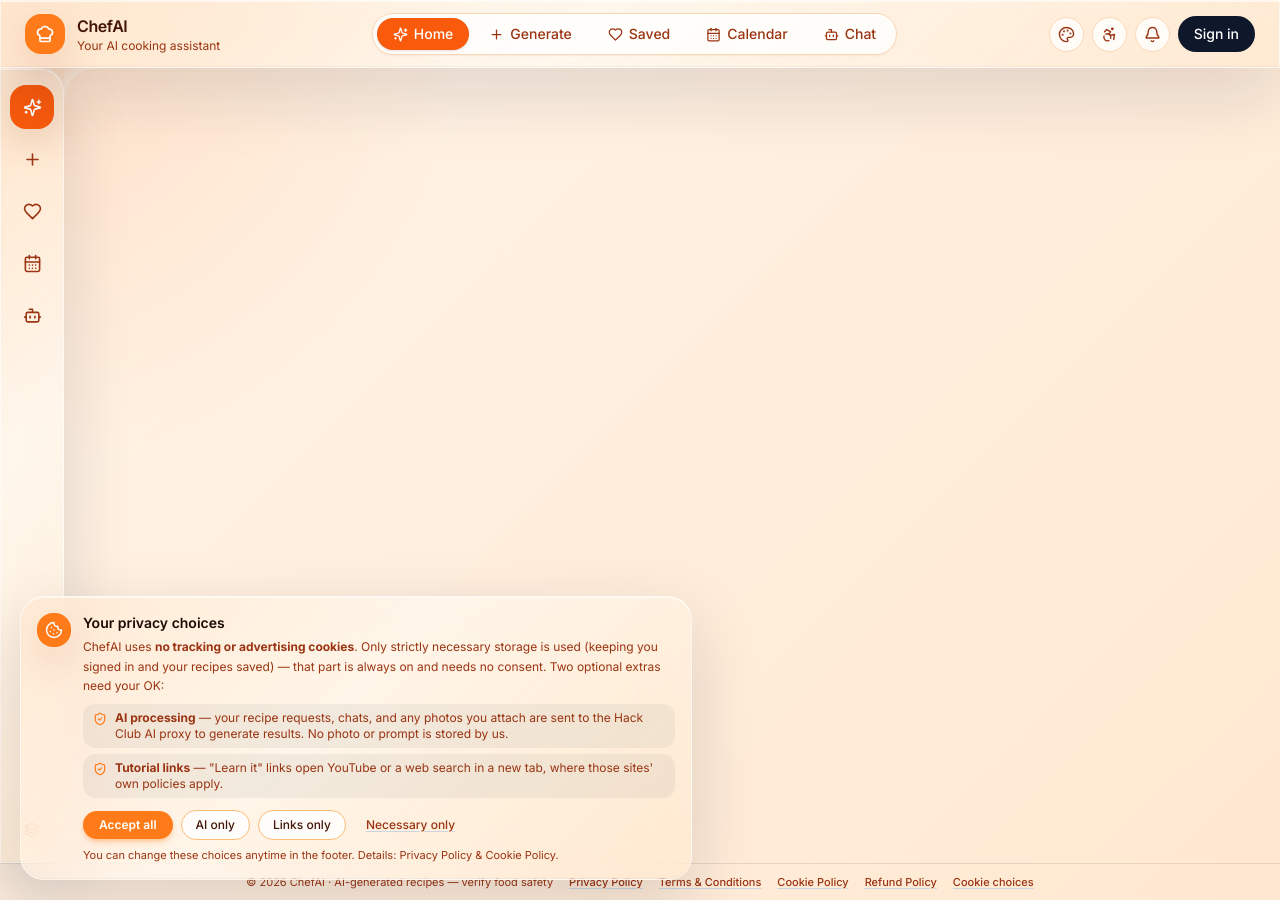
Test: ChefAI app shell › plans meals on the calendar from saved recipes
Click the tab "Calendar".
click(747, 34)  # box [690,18,804,50]
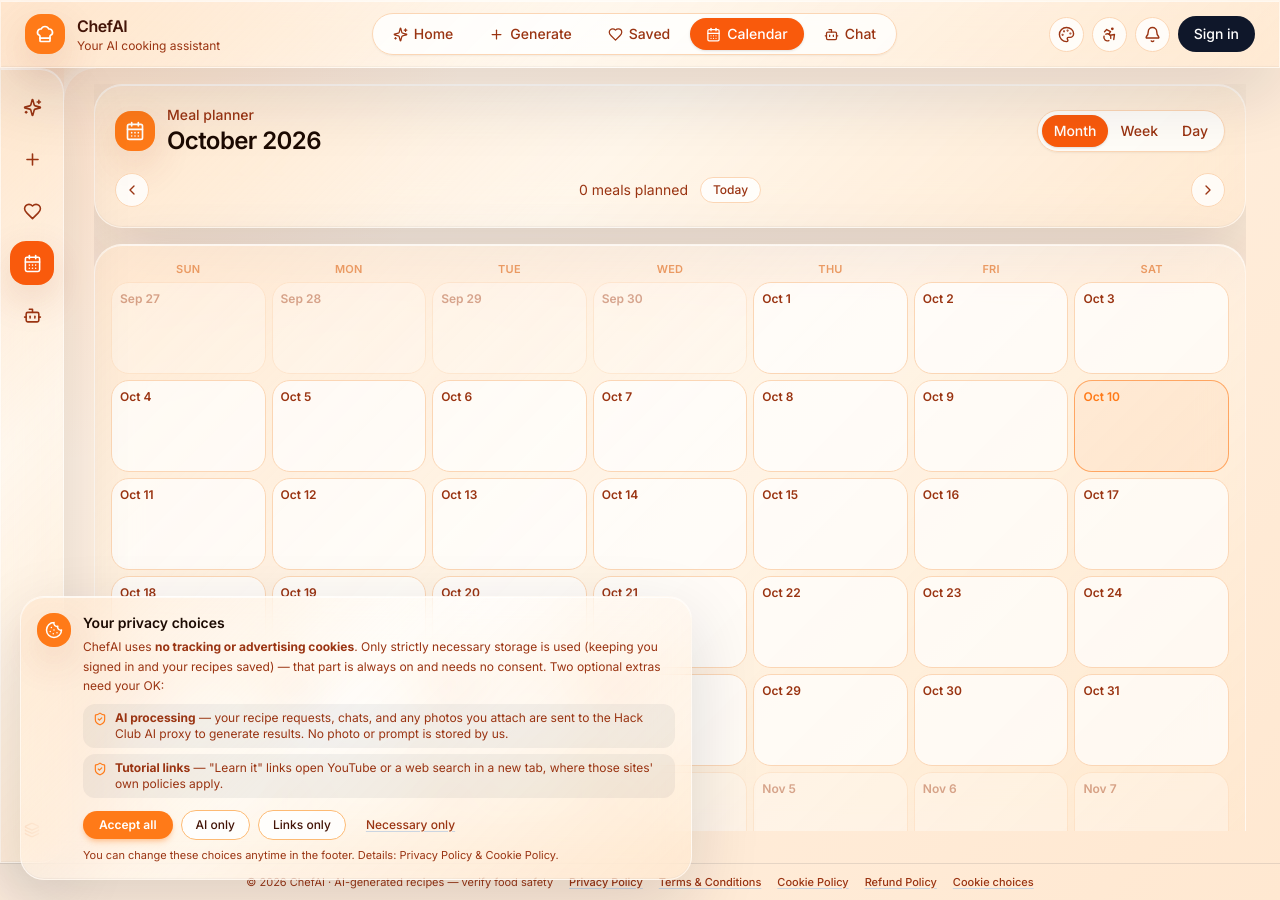
expect the text "Meal planner" is shown: met, box [167,106,254,123]
expect the heading "October 2026" is shown: met, box [167,125,321,157]
# Plan dinner for today: switch to day view, open the picker, pick the recipe
Click the button "day".
click(1195, 131)  # box [1170,115,1220,147]
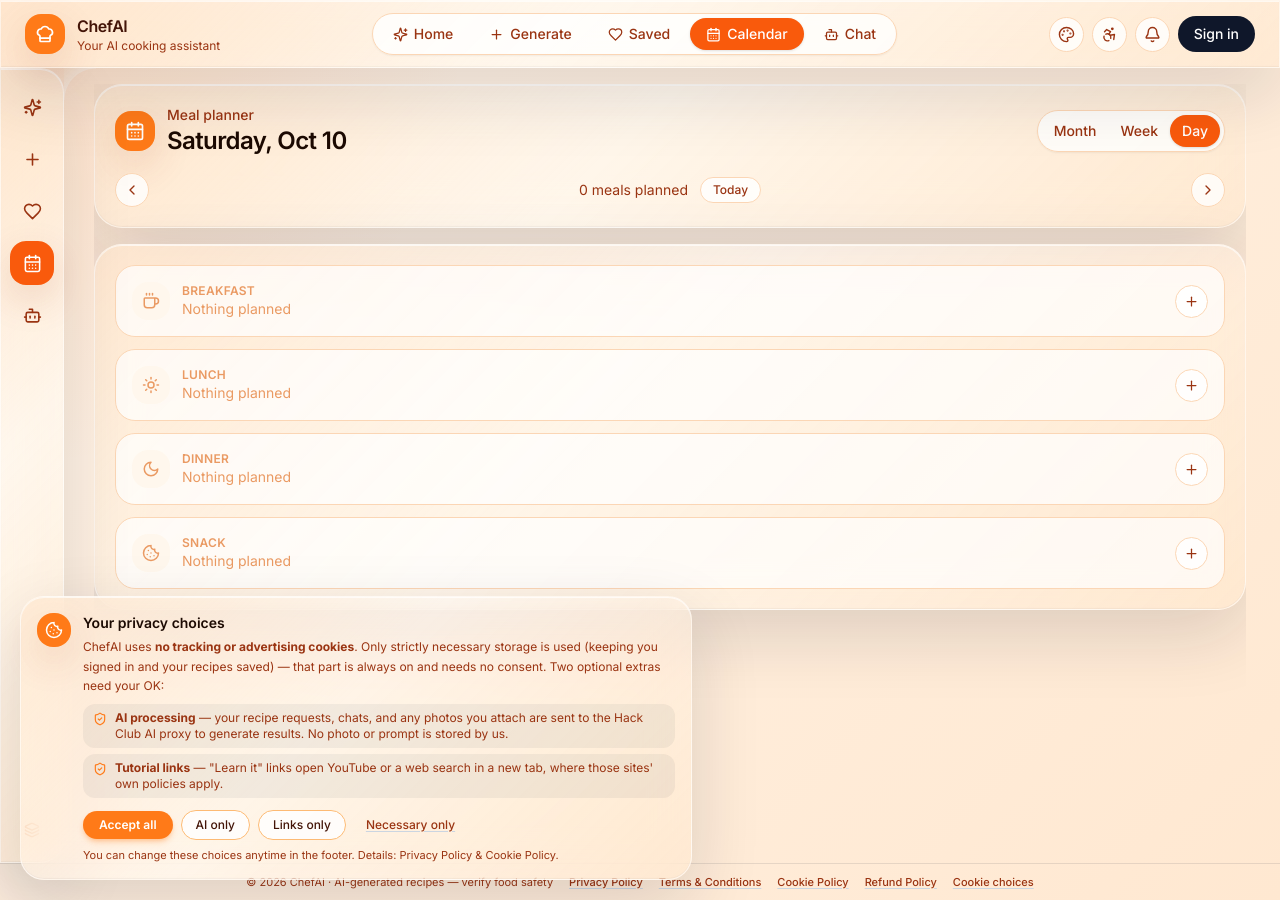
Click the button named "plan dinner".
click(1192, 469)  # box [1175,452,1208,486]
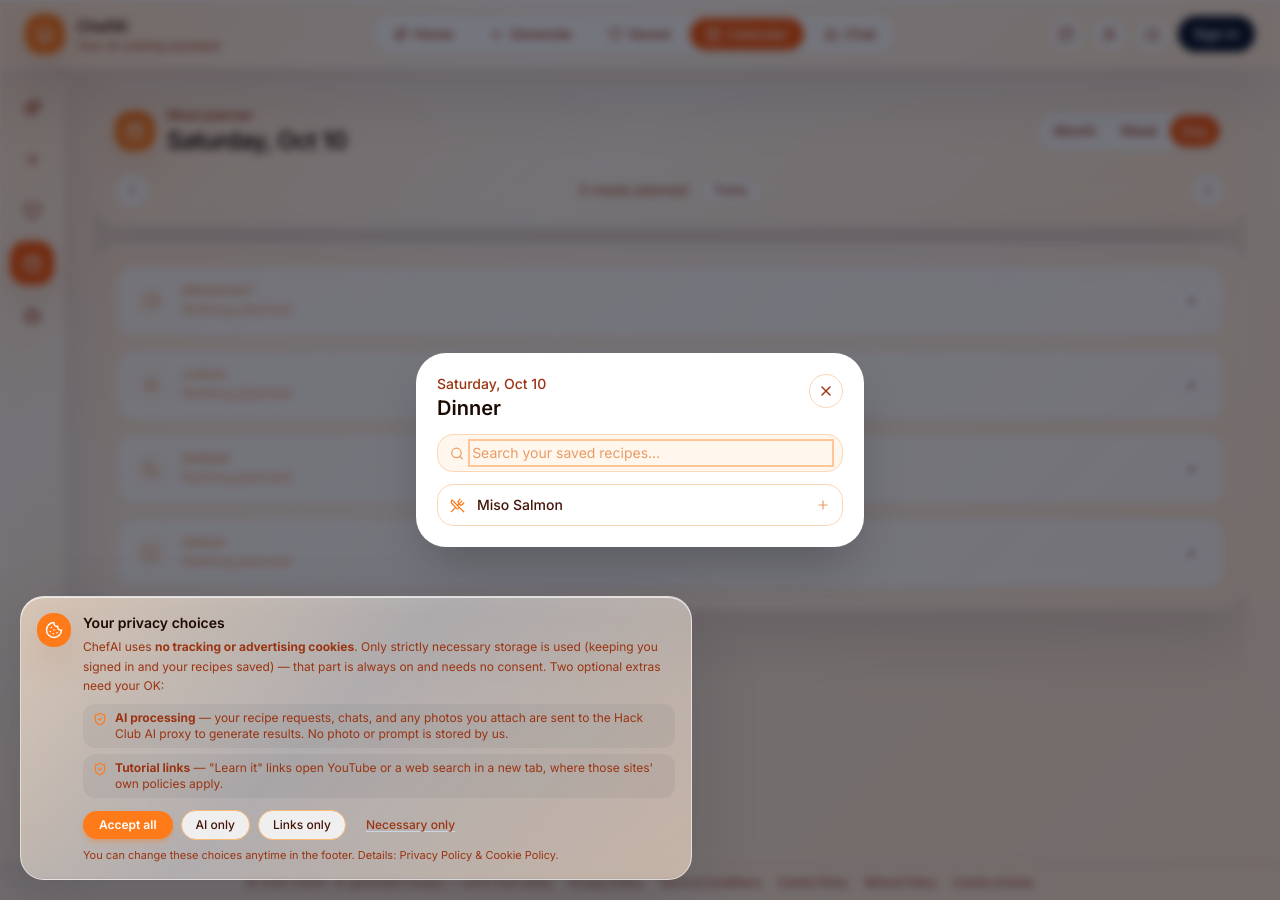
Click the button "Miso Salmon".
click(520, 504)  # box [437,484,843,526]
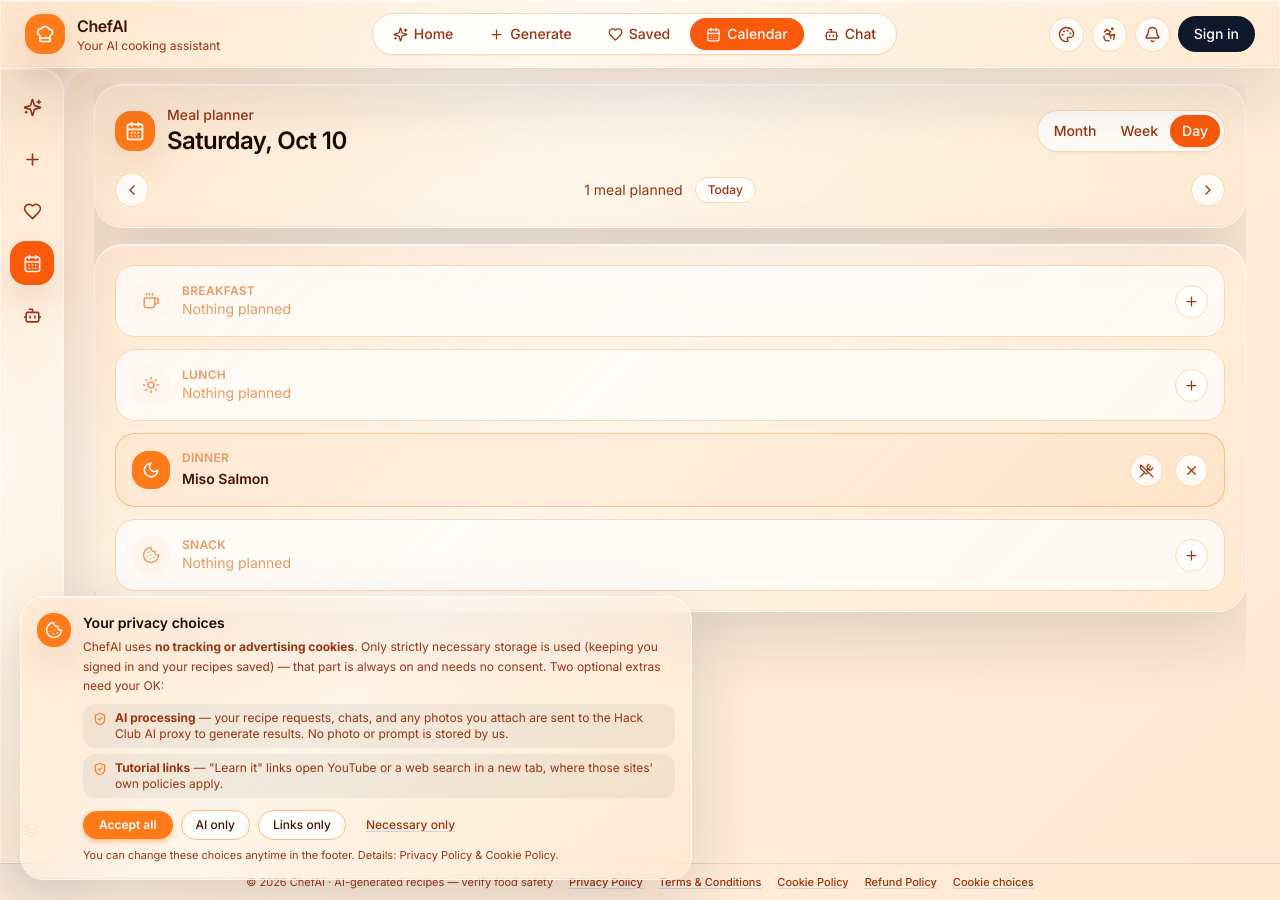
expect the button "Miso Salmon" is shown: met, box [182,469,269,489]
# Remove it again
Click the button named "remove dinner for".
click(1192, 470)  # box [1175,454,1208,486]
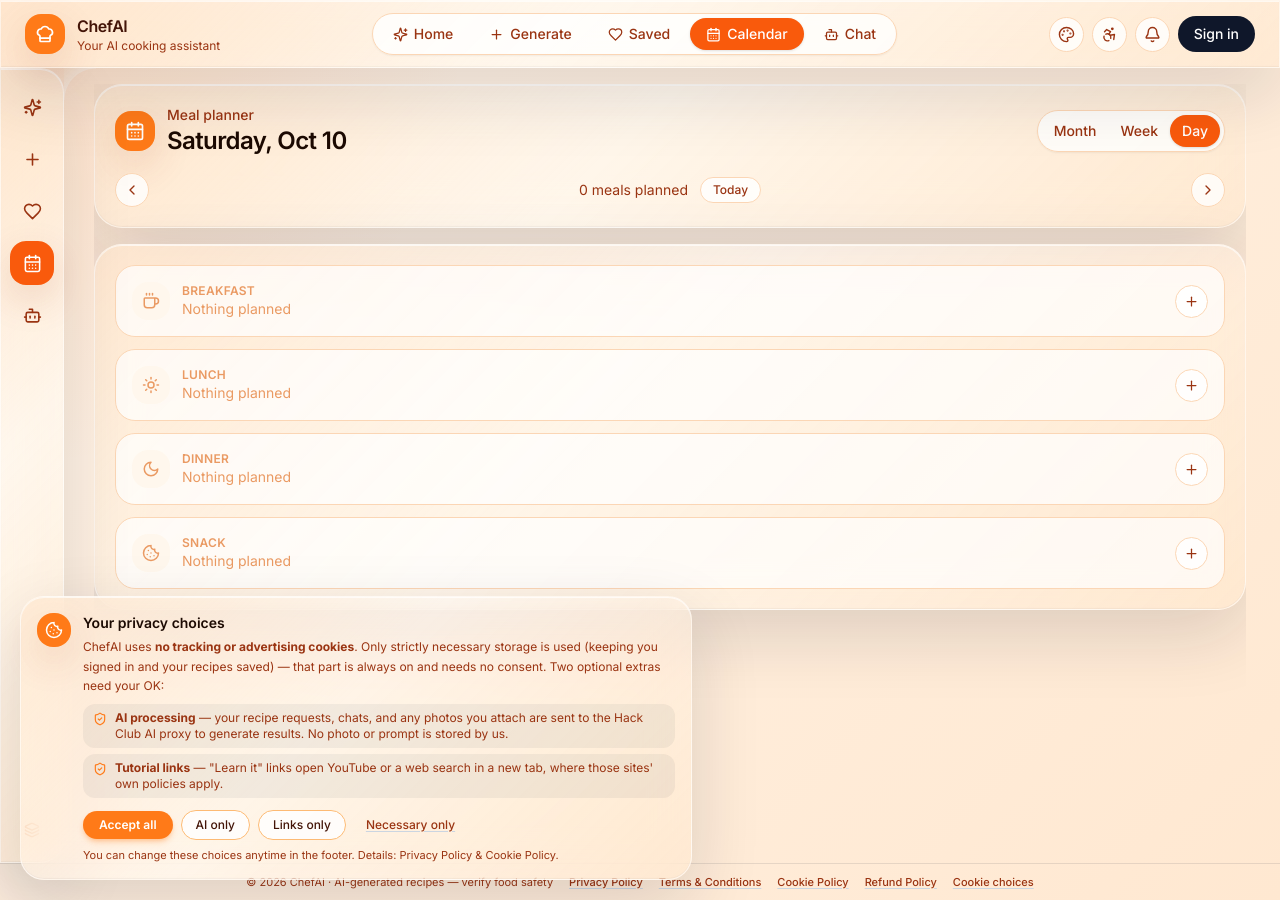
expect the button "Miso Salmon" is gone: met
